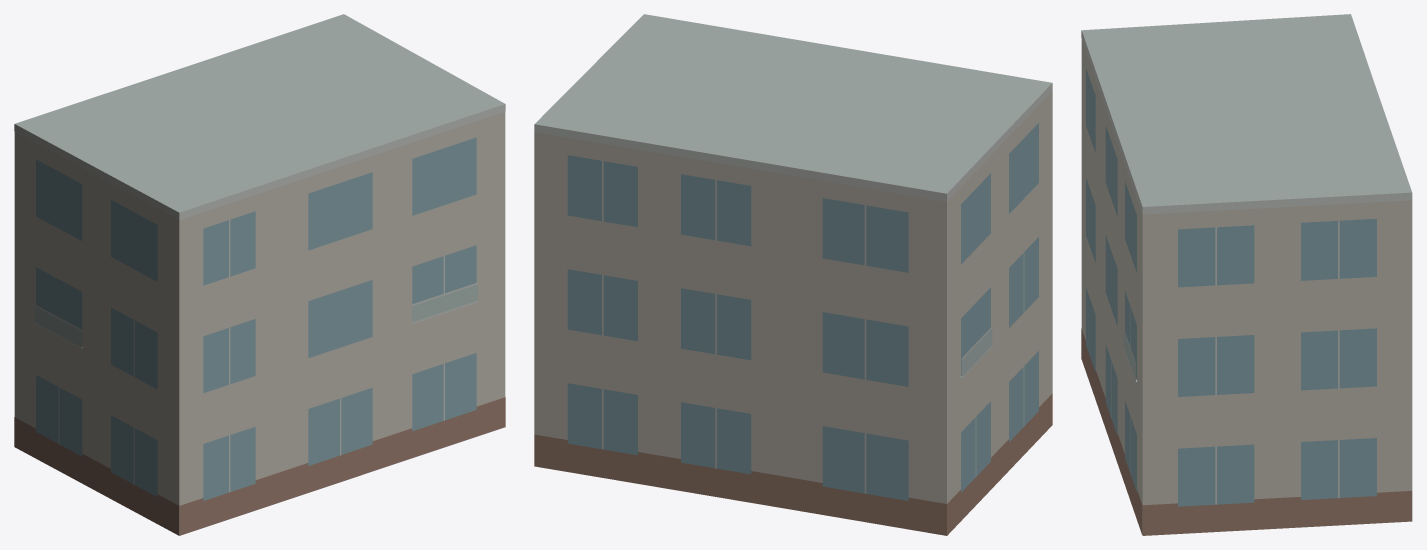
File: survey-upis-32947050.glb
3 renders of one model, left to right at view 1: azimuth 30°, elevation 25°; view 2: azimuth 150°, elevation 25°; view 3: azimuth 270°, elevation 25°, orthographic. The views are drawn at different scales.
Parts seen in each view (by area): view 1: survey-upis-32947050.tmp; view 2: survey-upis-32947050.tmp; view 3: survey-upis-32947050.tmp.
Boxes of the visible parts, bbox=[...] form: survey-upis-32947050.tmp: bbox=[14, 14, 505, 535]; survey-upis-32947050.tmp: bbox=[534, 14, 1052, 535]; survey-upis-32947050.tmp: bbox=[1081, 14, 1412, 535].
Bounding box in the file's own units: 13.22 × 10.5 × 9.58.
